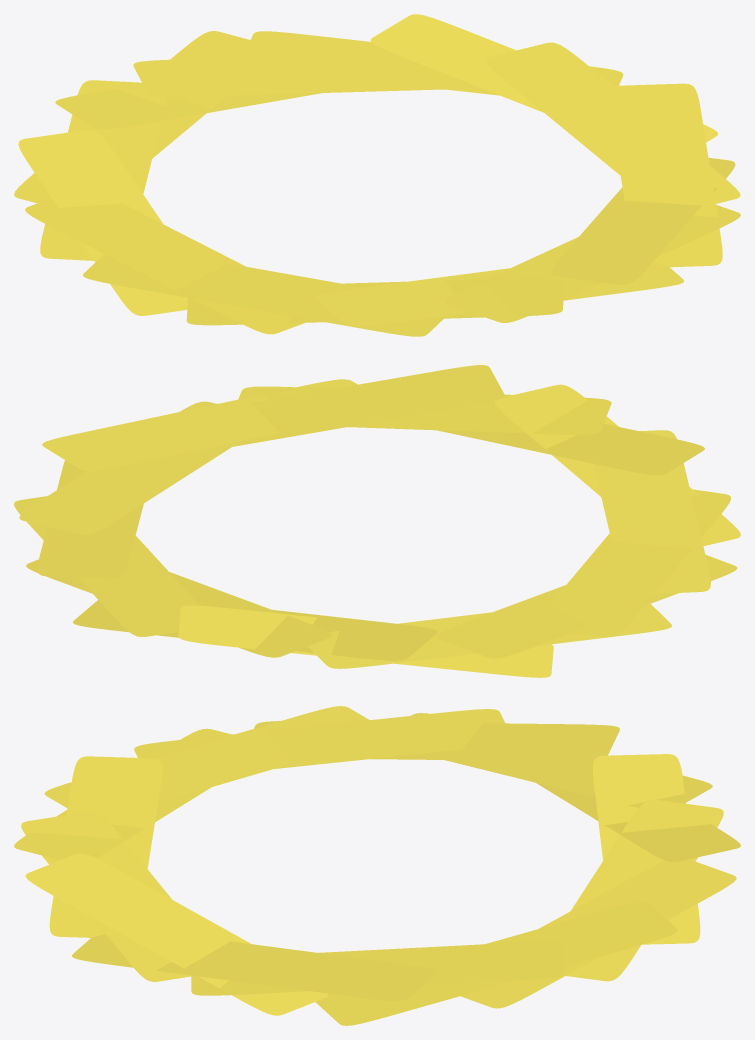
The picture shows the model from 3 angles, top to bottom: view 1: azimuth 30°, elevation 25°; view 2: azimuth 150°, elevation 25°; view 3: azimuth 270°, elevation 25°; orthographic projection.
Visible parts, largest first — view 1: Plane.014, Plane.008, Plane.007, Plane, Plane.009, Plane.013, Plane.002, Plane.011, Plane.001, Plane.005, Plane.003, Plane.006 (+3 smaller); view 2: Plane.013, Plane.014, Plane.008, Plane.009, Plane, Plane.005, Plane.002, Plane.007, Plane.011, Plane.012, Plane.001, Plane.004 (+3 smaller); view 3: Plane.013, Plane.014, Plane.008, Plane.001, Plane.011, Plane, Plane.009, Plane.002, Plane.004, Plane.007, Plane.003, Plane.012 (+3 smaller).
Part boxes in pixels (left/top/right/bottom): Plane.014: left=609, top=83, right=722, bottom=267; Plane.008: left=25, top=198, right=305, bottom=334; Plane.007: left=18, top=130, right=187, bottom=315; Plane: left=486, top=42, right=740, bottom=203; Plane.009: left=83, top=254, right=443, bottom=336; Plane.013: left=550, top=157, right=735, bottom=284; Plane.002: left=251, top=31, right=623, bottom=95; Plane.011: left=315, top=262, right=683, bottom=326; Plane.001: left=370, top=14, right=718, bottom=142; Plane.005: left=14, top=31, right=277, bottom=203; Plane.003: left=133, top=59, right=444, bottom=96; Plane.006: left=40, top=80, right=166, bottom=260; Plane.013: left=233, top=365, right=504, bottom=446; Plane.014: left=42, top=379, right=357, bottom=471; Plane.008: left=549, top=489, right=730, bottom=636; Plane.009: left=593, top=430, right=710, bottom=593; Plane: left=19, top=401, right=240, bottom=534; Plane.005: left=178, top=605, right=553, bottom=677; Plane.002: left=14, top=496, right=199, bottom=636; Plane.007: left=436, top=554, right=737, bottom=658; Plane.011: left=437, top=424, right=704, bottom=475; Plane.012: left=238, top=386, right=611, bottom=434; Plane.001: left=37, top=460, right=143, bottom=578; Plane.004: left=73, top=600, right=437, bottom=660; Plane.013: left=25, top=853, right=328, bottom=1015; Plane.014: left=72, top=934, right=436, bottom=1001; Plane.008: left=134, top=709, right=504, bottom=768; Plane.001: left=315, top=902, right=677, bottom=1025; Plane.011: left=49, top=756, right=162, bottom=937; Plane: left=191, top=941, right=563, bottom=995; Plane.009: left=44, top=706, right=369, bottom=808; Plane.002: left=460, top=859, right=736, bottom=1008; Plane.004: left=593, top=754, right=700, bottom=944; Plane.007: left=254, top=721, right=619, bottom=761; Plane.003: left=566, top=799, right=723, bottom=981; Plane.012: left=21, top=811, right=193, bottom=981.
Size of what is drawn, in the model's own units: 0.736 by 0.0363 by 0.7305.
